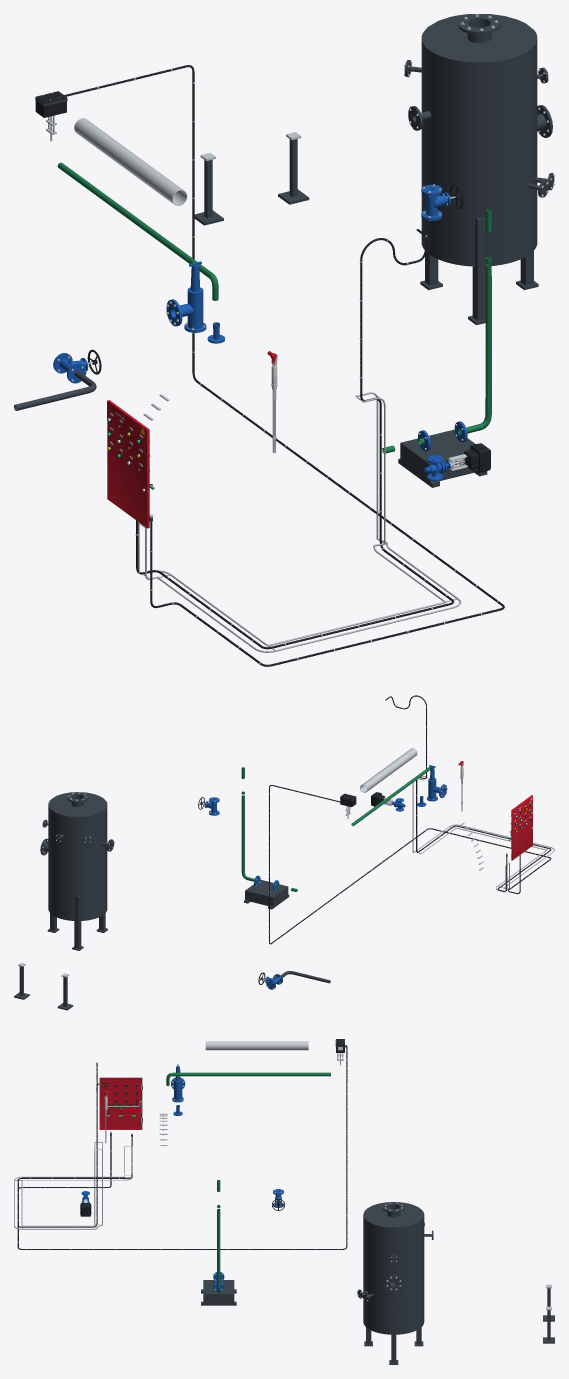
The model's file is s4000-2-DrMtY3Yw.glb.
The picture shows the model from 3 angles, top to bottom: view 1: azimuth 30°, elevation 25°; view 2: azimuth 150°, elevation 25°; view 3: azimuth 270°, elevation 25°; orthographic projection. The views are drawn at different scales.
Parts seen in each view (by area): view 1: separator_bdv60_5 / dark, cabinet_door / cabinet_door_5.npz, mod_eco_drive_cable / black, cables / zinc, wiring_pressure_switch_3 / black, steam_delivery / steel, pump_branch_1 / dark, pump_branch_1 / green, trap_support / dark, direct_inlet / green, safety_1 / blue, bcv925 / bcv925_0.npz (+1 smaller); view 2: separator_bdv60_5 / dark, cabinet_door / cabinet_door_5.npz, mod_eco_drive_cable / black, pump_branch_1 / dark, cables / zinc, wiring_pressure_switch_3 / black, steam_delivery / steel, pump_branch_1 / green, trap_support / dark; view 3: separator_bdv60_5 / dark, cabinet_door / cabinet_door_5.npz, cables / zinc, steam_delivery / steel, mod_eco_drive_cable / black, direct_inlet / green, wiring_pressure_switch_3 / black, pump_branch_1 / dark.
Part boxes in pixels (x1=…): separator_bdv60_5 / dark: x1=404, y1=14, x2=554, y2=325; cabinet_door / cabinet_door_5.npz: x1=107, y1=400, x2=150, y2=528; mod_eco_drive_cable / black: x1=64, y1=65, x2=504, y2=666; cables / zinc: x1=138, y1=392, x2=461, y2=652; wiring_pressure_switch_3 / black: x1=136, y1=229, x2=453, y2=649; steam_delivery / steel: x1=74, y1=118, x2=187, y2=205; pump_branch_1 / dark: x1=398, y1=429, x2=487, y2=487; pump_branch_1 / green: x1=382, y1=209, x2=491, y2=453; trap_support / dark: x1=194, y1=139, x2=309, y2=225; direct_inlet / green: x1=57, y1=162, x2=218, y2=300; safety_1 / blue: x1=166, y1=261, x2=206, y2=332; bcv925 / bcv925_0.npz: x1=424, y1=443, x2=490, y2=481; separator_bdv60_5 / dark: x1=40, y1=792, x2=114, y2=950; cabinet_door / cabinet_door_5.npz: x1=510, y1=795, x2=533, y2=860; mod_eco_drive_cable / black: x1=269, y1=785, x2=551, y2=944; pump_branch_1 / dark: x1=244, y1=880, x2=289, y2=909; cables / zinc: x1=412, y1=775, x2=554, y2=892; wiring_pressure_switch_3 / black: x1=385, y1=695, x2=551, y2=891; steam_delivery / steel: x1=360, y1=748, x2=417, y2=792; pump_branch_1 / green: x1=241, y1=767, x2=297, y2=891; trap_support / dark: x1=14, y1=966, x2=73, y2=1010; separator_bdv60_5 / dark: x1=357, y1=1202, x2=433, y2=1364; cabinet_door / cabinet_door_5.npz: x1=99, y1=1077, x2=142, y2=1129; cables / zinc: x1=14, y1=1142, x2=132, y2=1229; steam_delivery / steel: x1=205, y1=1041, x2=308, y2=1050; mod_eco_drive_cable / black: x1=17, y1=1046, x2=347, y2=1249; direct_inlet / green: x1=166, y1=1072, x2=330, y2=1085; wiring_pressure_switch_3 / black: x1=17, y1=1062, x2=132, y2=1227; pump_branch_1 / dark: x1=201, y1=1280, x2=236, y2=1305.
Size of the model in its own units: 5.2 by 2.62 by 6.8.
